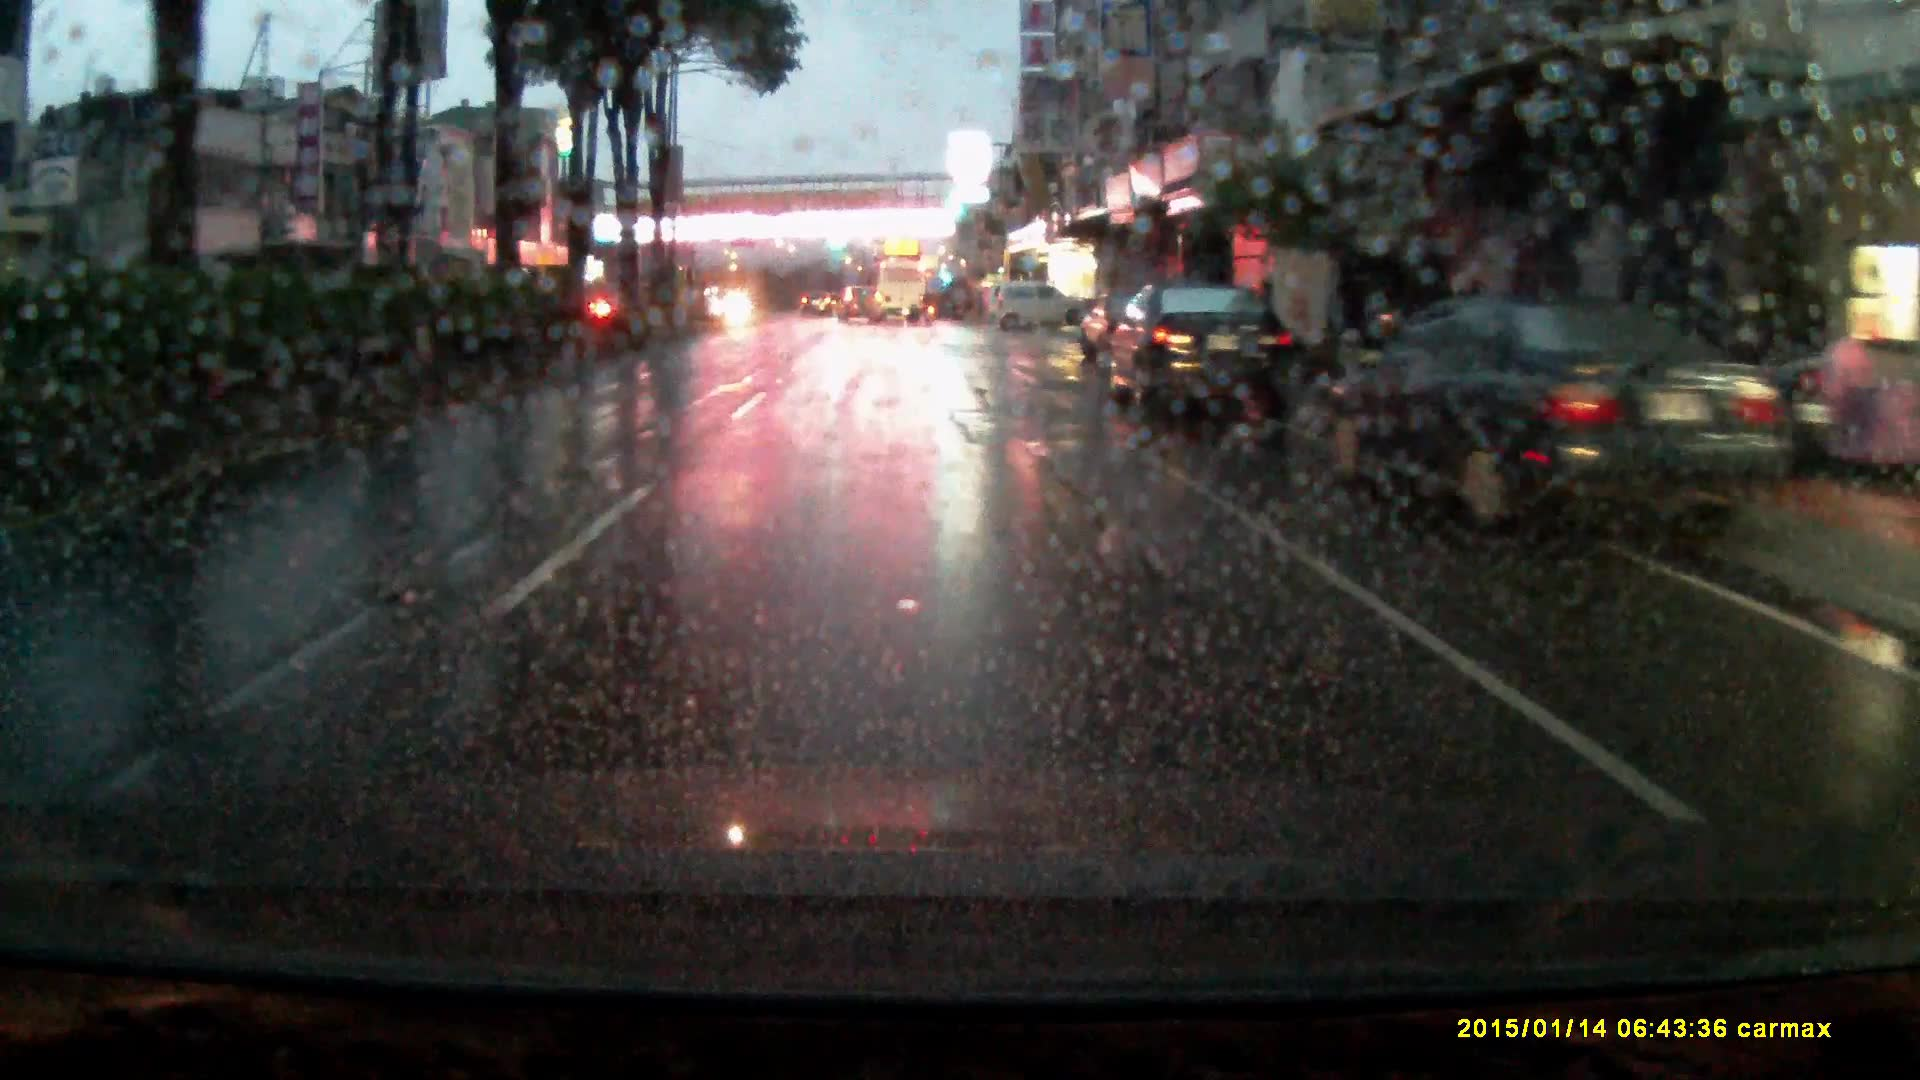vehicle: (1356, 305, 1784, 585), (1106, 286, 1294, 440), (1079, 294, 1137, 369), (858, 262, 928, 324), (996, 285, 1084, 332), (836, 294, 885, 336), (800, 298, 833, 328)
